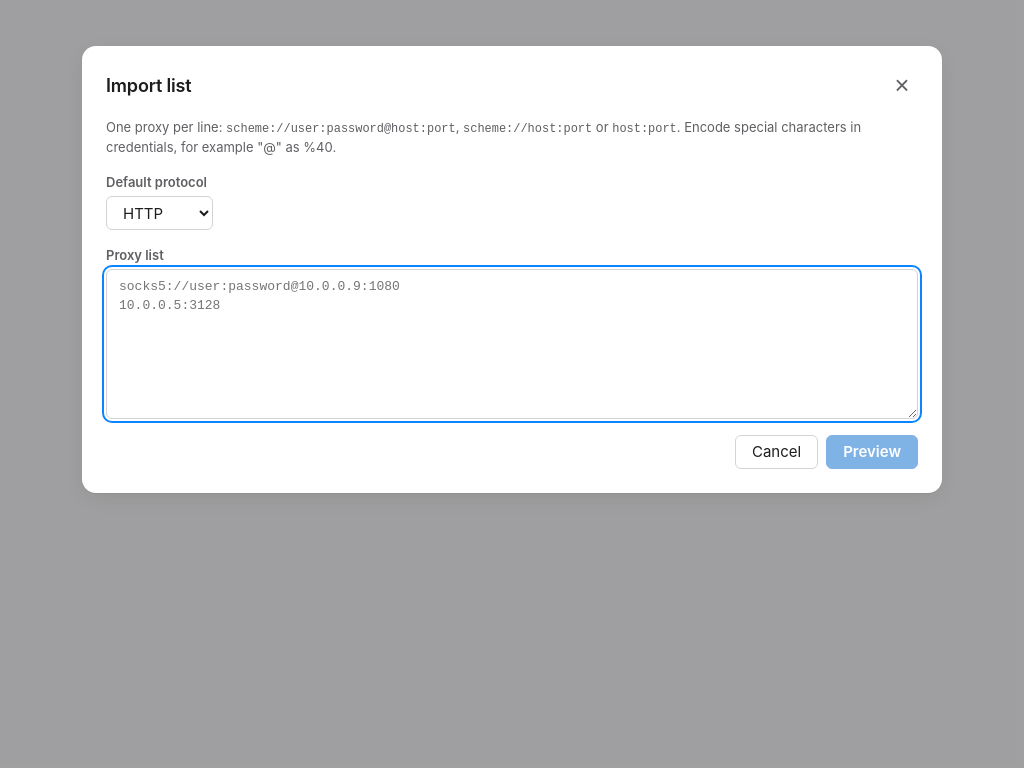
Test: ImportDialog › shows each row with a plain-English result and preselects the importable ones
The width and height of the screenshot is (1024, 768).
Step 1. Type "anything" into the text box labelled "Proxy list" → (512, 344), box [106,269,918,419]
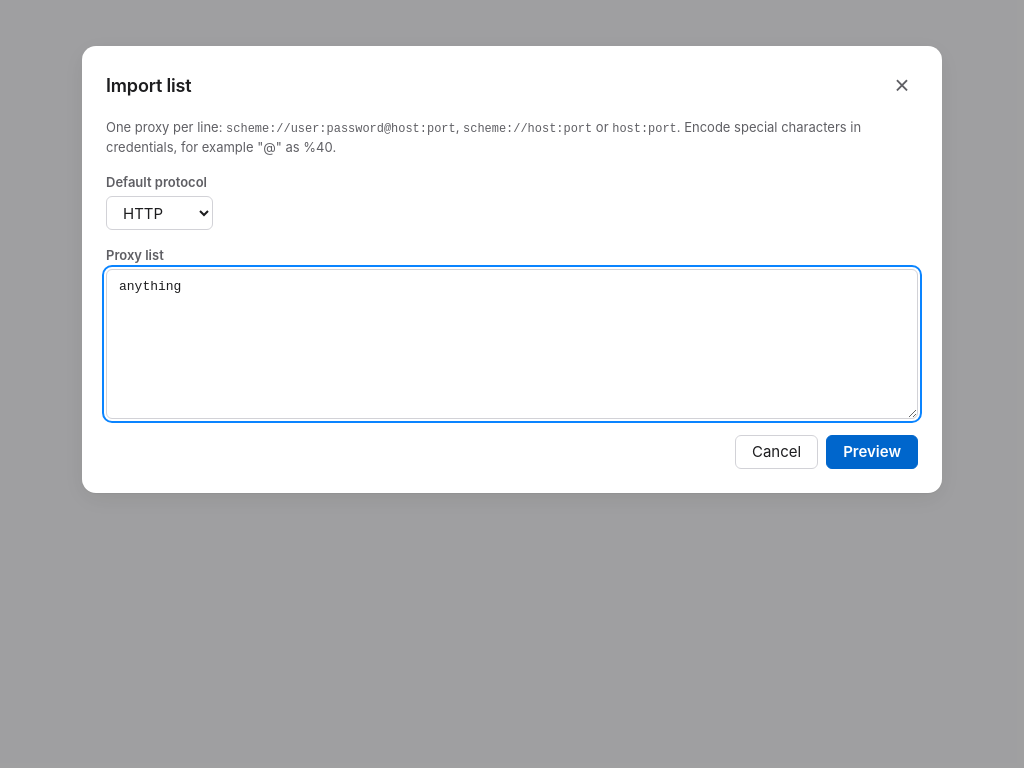
Step 2. Click the button "Preview" → click(872, 452), box [826,435,918,469]
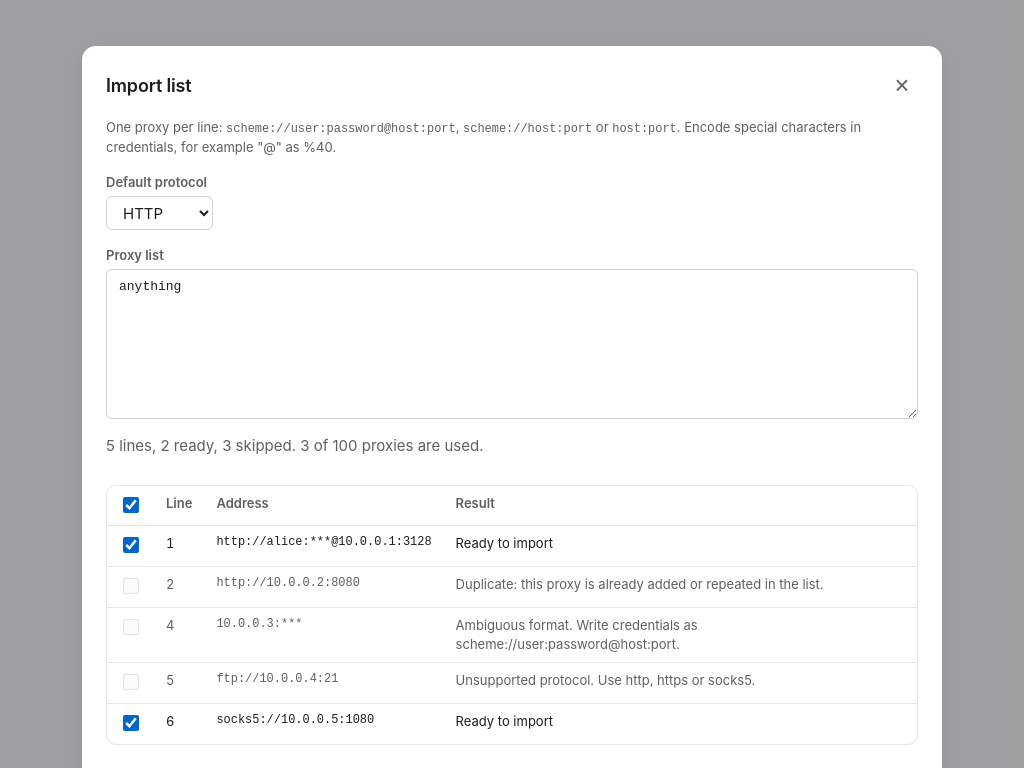
Expected: the table is shown, [107,486,917,744]
Expected: the checkbox named "Import line 1" is checked, [123,537,139,553]
Expected: the text "Ready to import" next to "http://alice:***@10.0.0.1:3128" is shown, [456,535,553,551]
